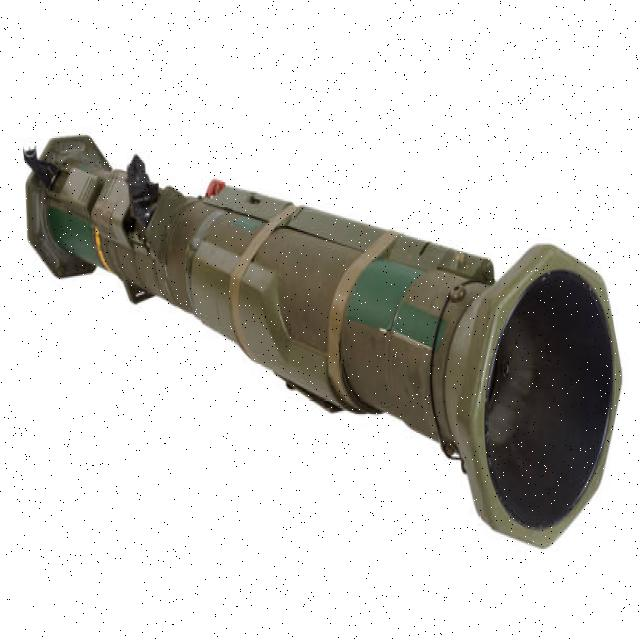bazooka: (19, 125, 634, 566)
